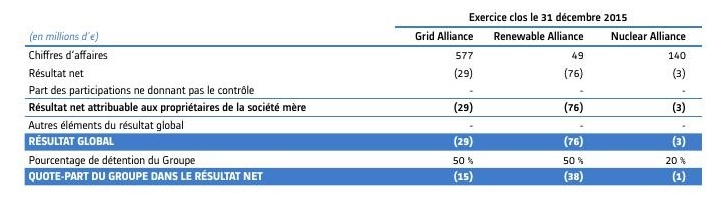table: (0, 0, 716, 199)
